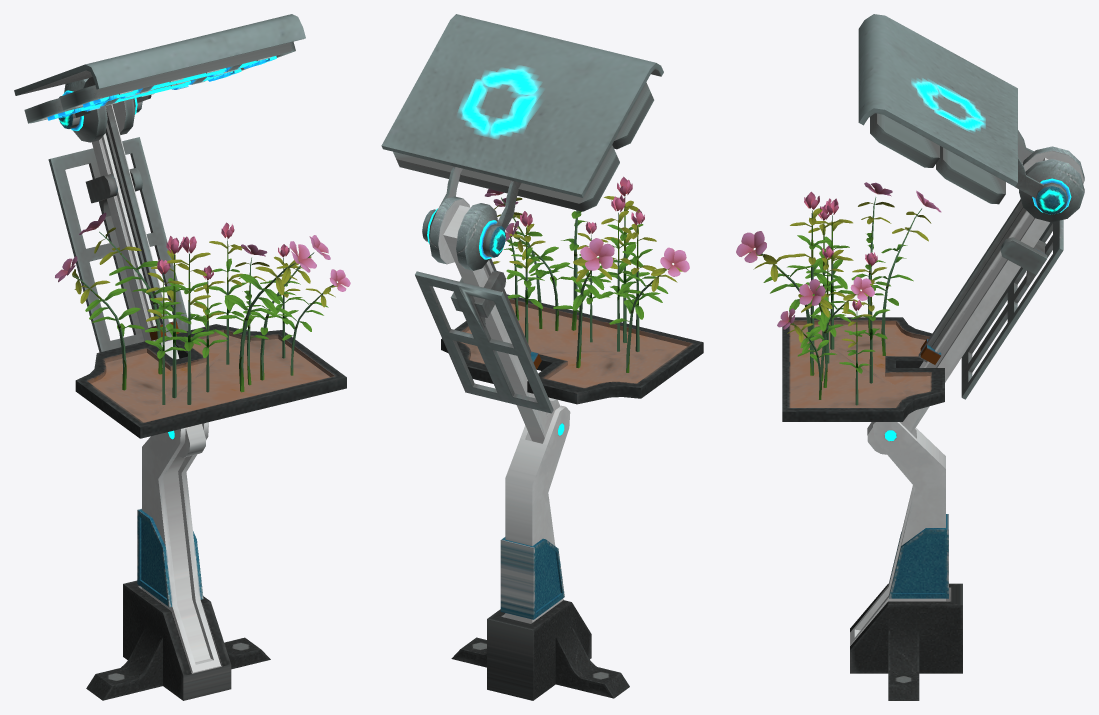
The model's file is neon4.fbx.
The picture shows the model from 3 angles, left to right: view 1: azimuth 30°, elevation 25°; view 2: azimuth 150°, elevation 25°; view 3: azimuth 270°, elevation 25°; orthographic projection. The views are drawn at different scales.
Visible parts, largest first — view 1: Neon4; view 2: Neon4; view 3: Neon4.
Part boxes in pixels (bbox=[...]): Neon4: bbox=[14, 14, 350, 700]; Neon4: bbox=[381, 14, 703, 700]; Neon4: bbox=[736, 14, 1084, 700].
Size of the model in its own units: 70.42 by 173 by 91.75.
3 materials, 3 textured.
